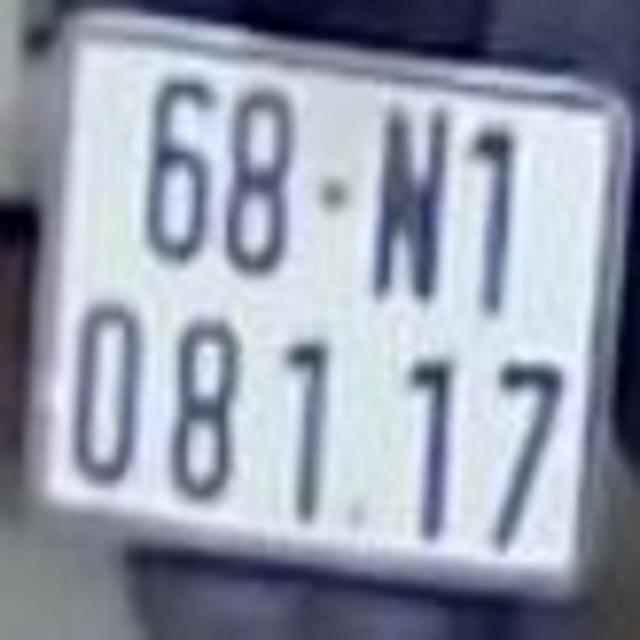0: (67, 300, 143, 486)
1: (390, 351, 454, 548), (466, 114, 520, 316), (276, 330, 328, 525)
6: (141, 72, 214, 258)
7: (490, 343, 562, 554)
8: (169, 313, 243, 497), (222, 76, 292, 270)
N: (365, 94, 451, 308)
